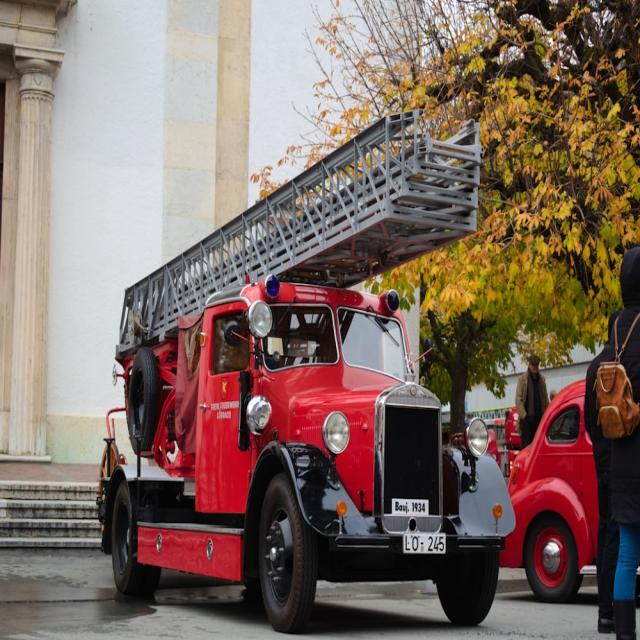emergency: (98, 114, 515, 632)
